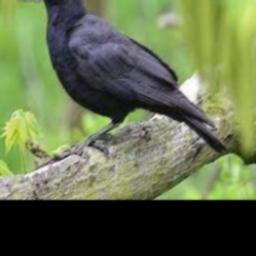Crow: (21, 0, 227, 155)
